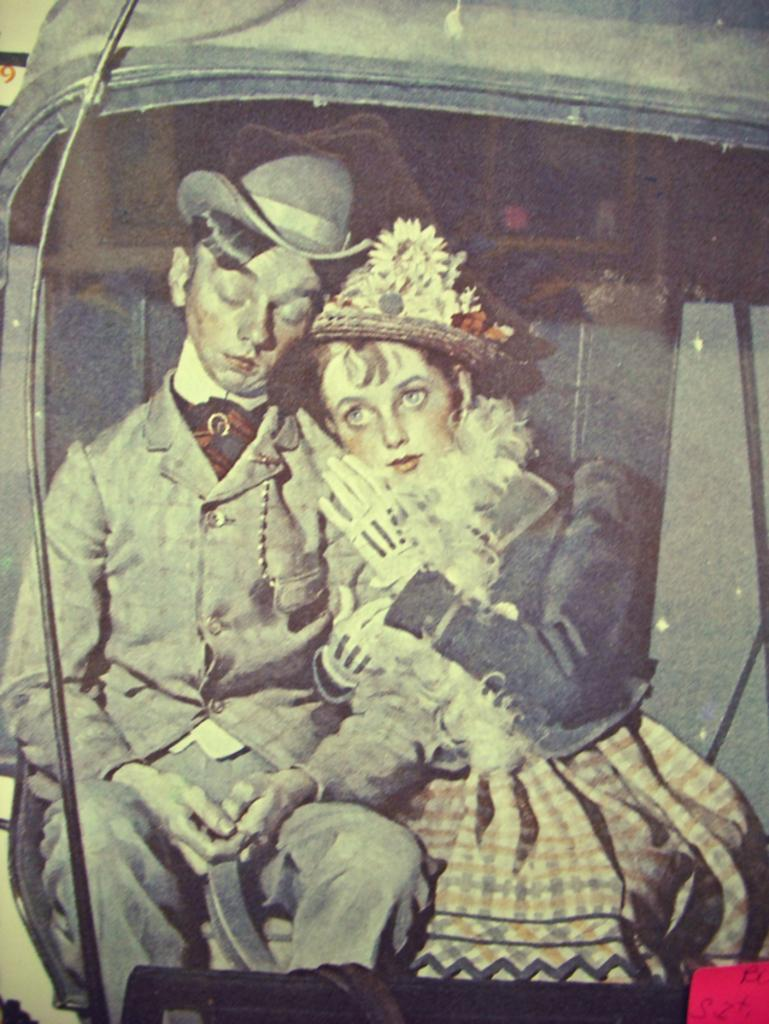Hat: (300, 220, 522, 393), (177, 152, 367, 262)
